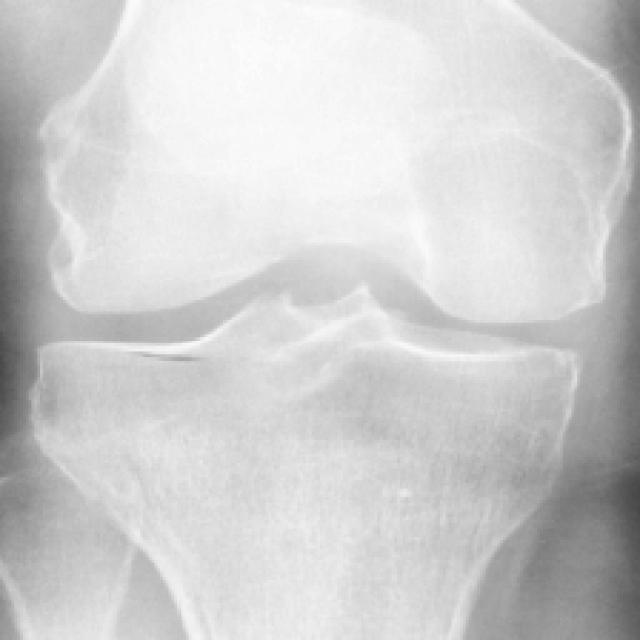femur: (34, 0, 630, 323)
tibia: (23, 286, 574, 640)
